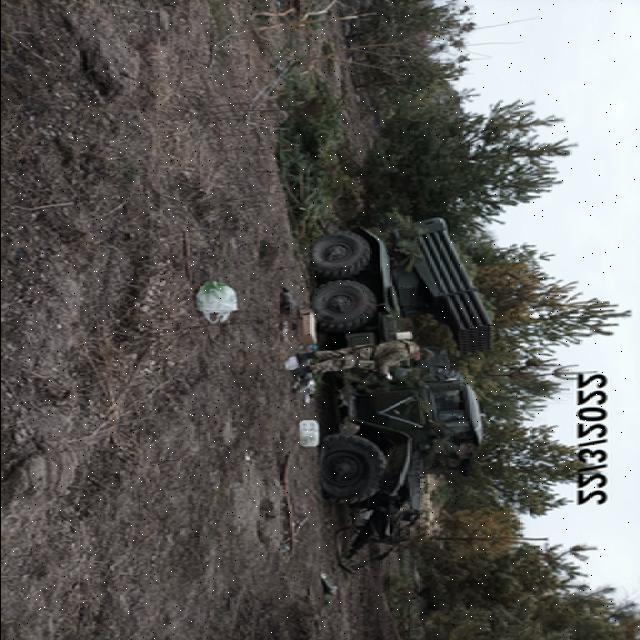MLRS: (304, 216, 502, 542)
